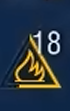1fire: (1, 55, 65, 90)
